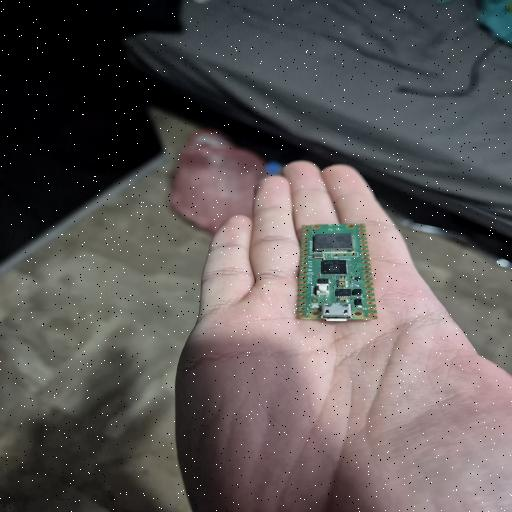raspberry-pi-pico-w: (297, 223, 376, 321)
